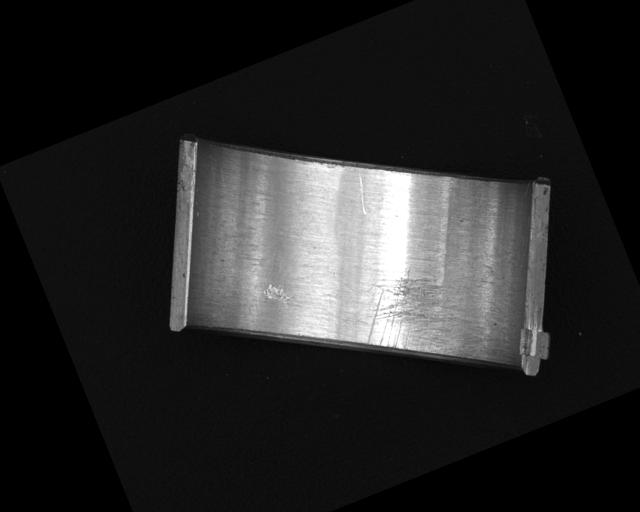bruise: (261, 275, 297, 309)
nick: (348, 172, 375, 215)
scratch: (346, 254, 479, 394)
